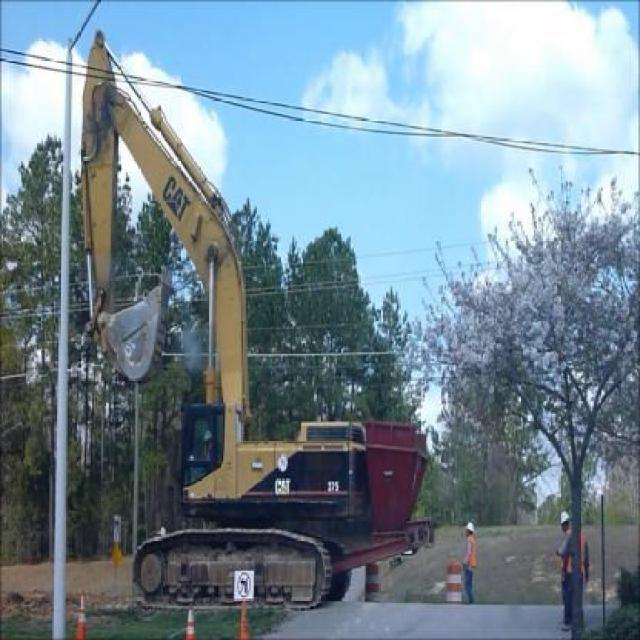Excavator: (78, 26, 374, 612)
